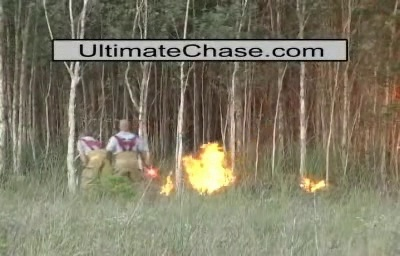fire: (178, 138, 237, 195), (145, 164, 175, 195), (298, 172, 331, 194)
